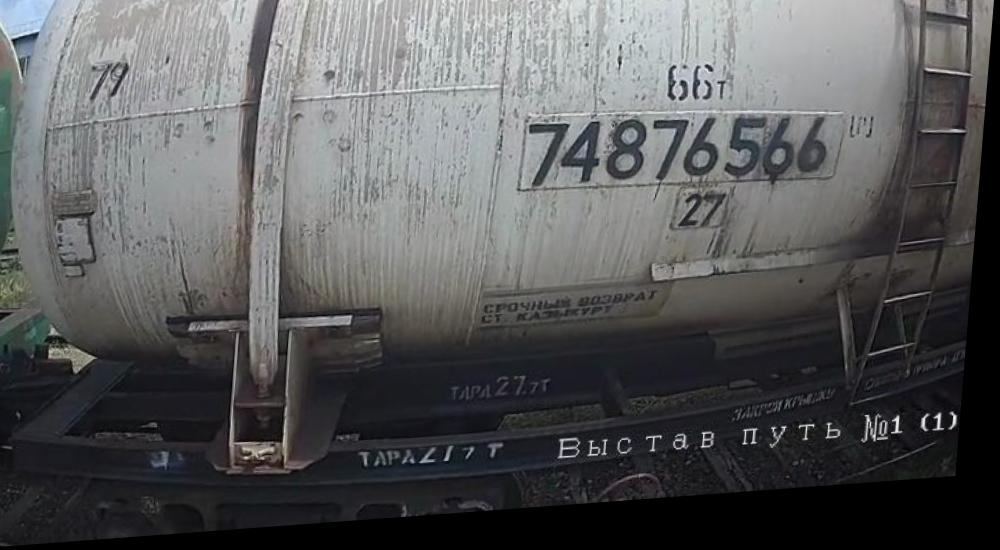Wagon-number: (524, 107, 842, 210)
